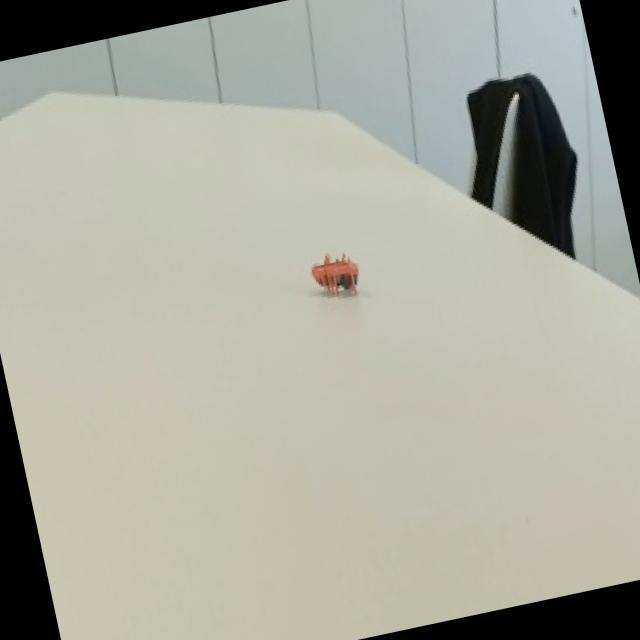7_NanoBug_Naranja: (299, 226, 376, 316)
